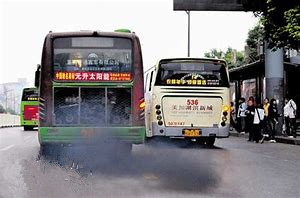smoke: (77, 140, 223, 194)
